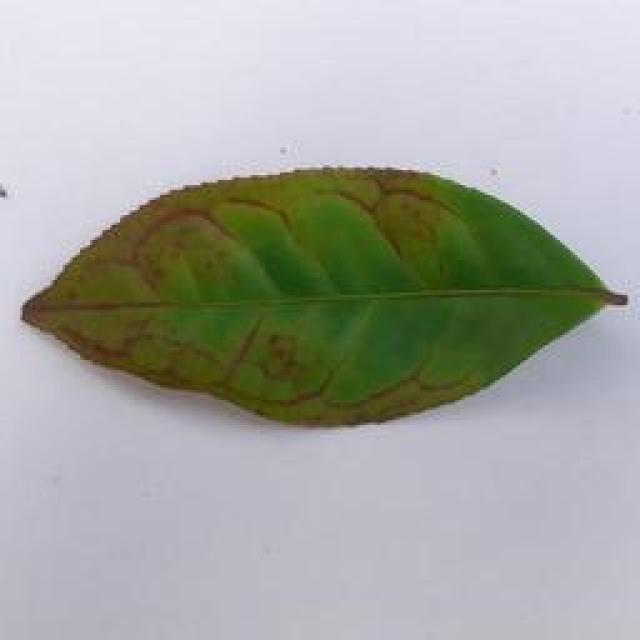Red Leaf Spot: (7, 152, 640, 432)
